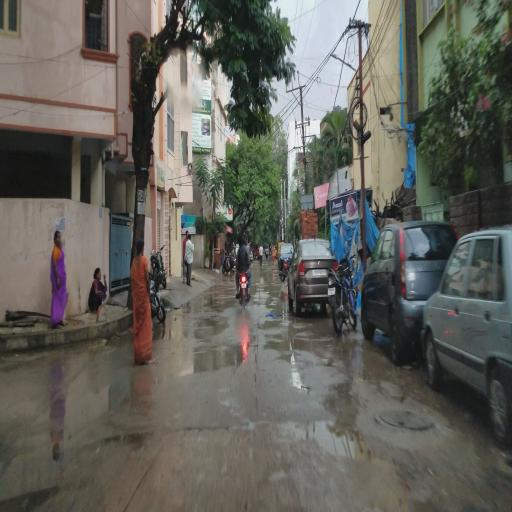street_light_0: (324, 44, 357, 78)
